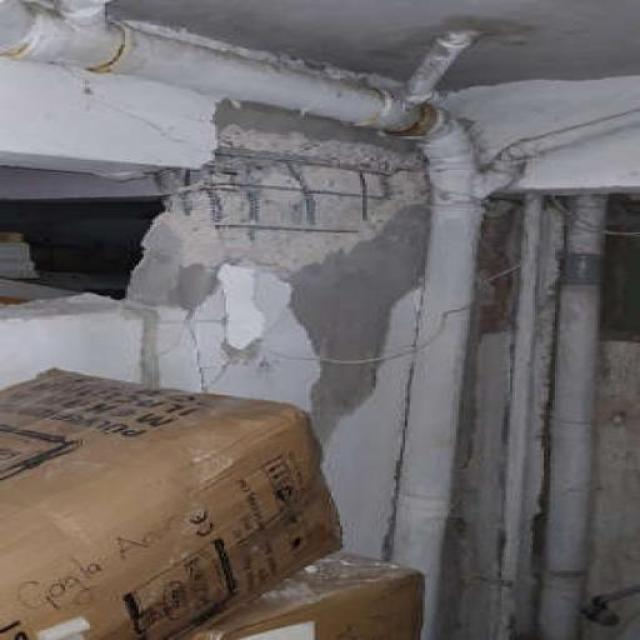D0w0: (159, 101, 425, 272)
